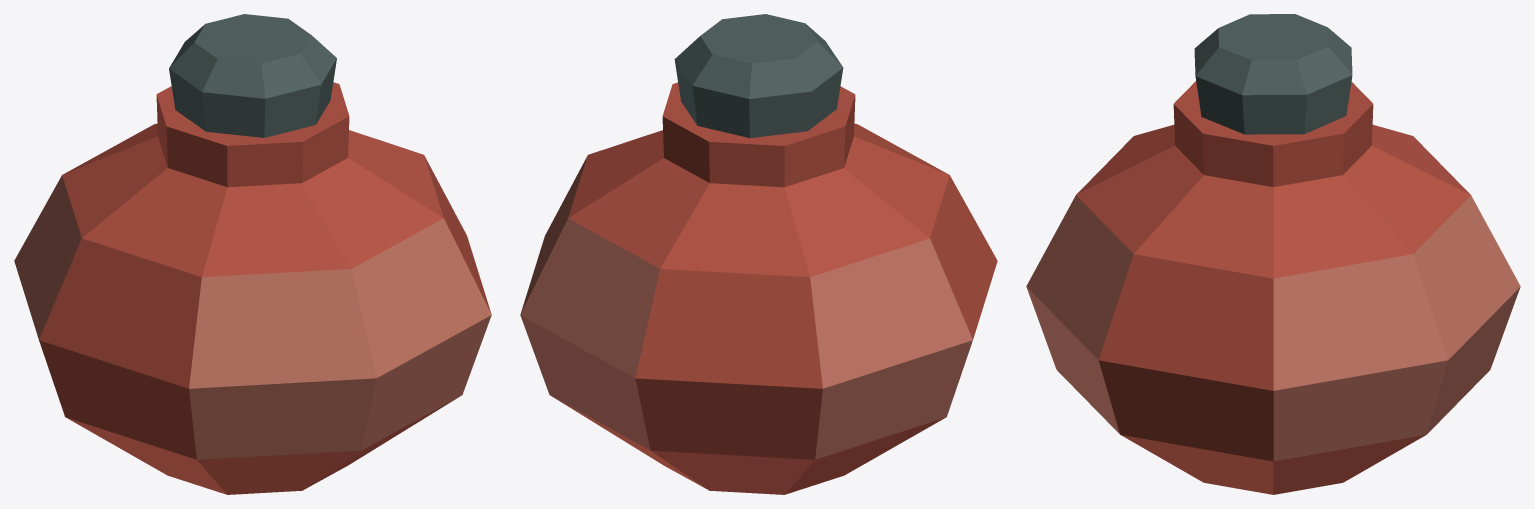
File: Bottle_4_Red.fbx
3 views of the same model, side by side, from view 1: azimuth 30°, elevation 25°; view 2: azimuth 150°, elevation 25°; view 3: azimuth 270°, elevation 25° (orthographic).
Visible parts, largest first — view 1: Bottle_4_Red_Part_1, Bottle_4_Red_Part_2, Bottle_4_Red_Part_3; view 2: Bottle_4_Red_Part_1, Bottle_4_Red_Part_2, Bottle_4_Red_Part_3; view 3: Bottle_4_Red_Part_1, Bottle_4_Red_Part_2, Bottle_4_Red_Part_3.
Part boxes in pixels (x1,y1,x2,y2): Bottle_4_Red_Part_1: [39, 82, 491, 494]; Bottle_4_Red_Part_2: [14, 175, 491, 459]; Bottle_4_Red_Part_3: [169, 14, 336, 137]; Bottle_4_Red_Part_1: [553, 82, 997, 494]; Bottle_4_Red_Part_2: [520, 156, 972, 459]; Bottle_4_Red_Part_3: [674, 14, 843, 137]; Bottle_4_Red_Part_1: [1076, 81, 1470, 494]; Bottle_4_Red_Part_2: [1026, 195, 1520, 461]; Bottle_4_Red_Part_3: [1194, 14, 1352, 134].
Size of the model in its own units: 31.78 by 29.5 by 31.78.
